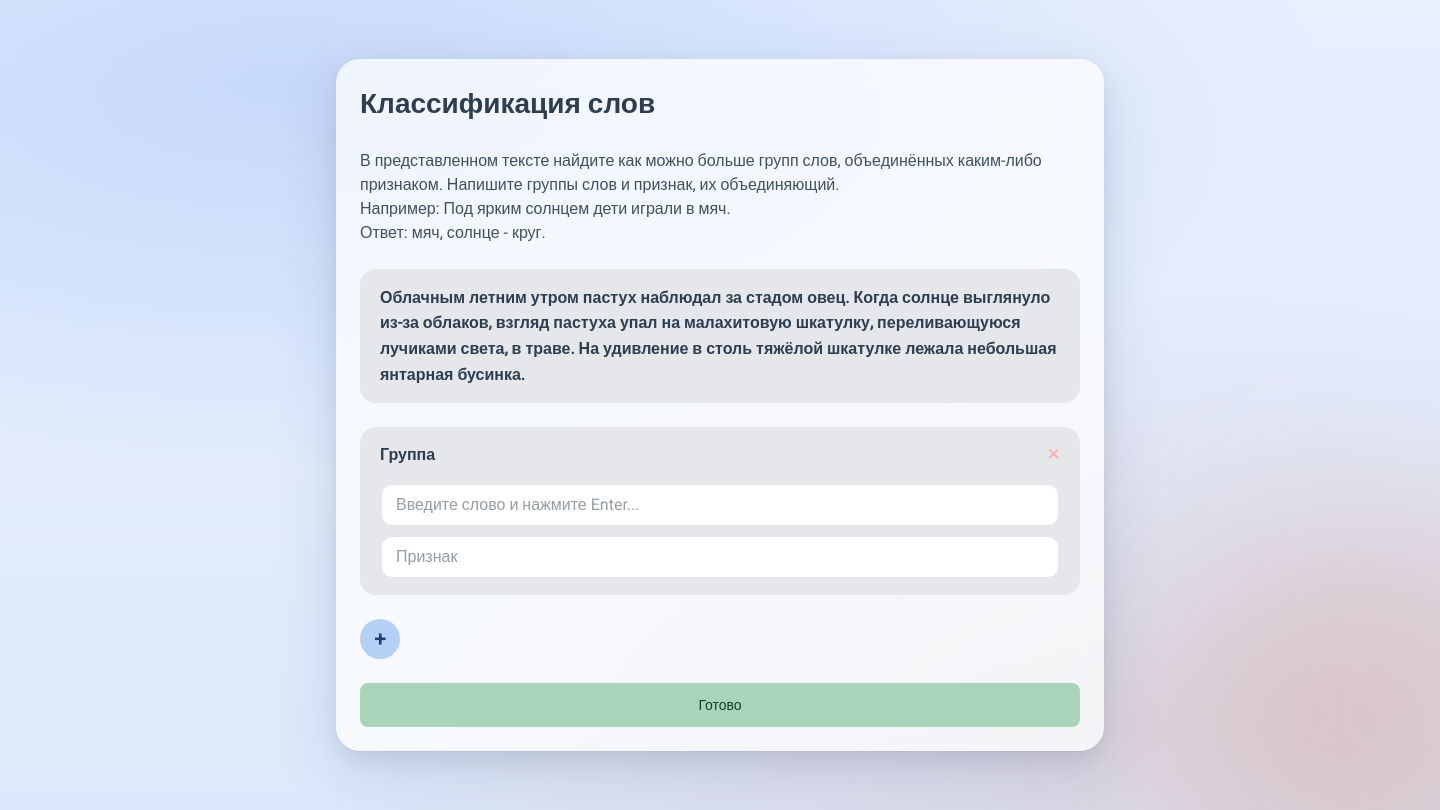
Test: /ai/classification — этап 1 (words) › «Готово» после активации: POST слов → 201 → этап 2 без стимула в DOM
Type "пастух" into the field with test id "word-input".
click(720, 505); type("пастух")  # box [380,483,1060,527]
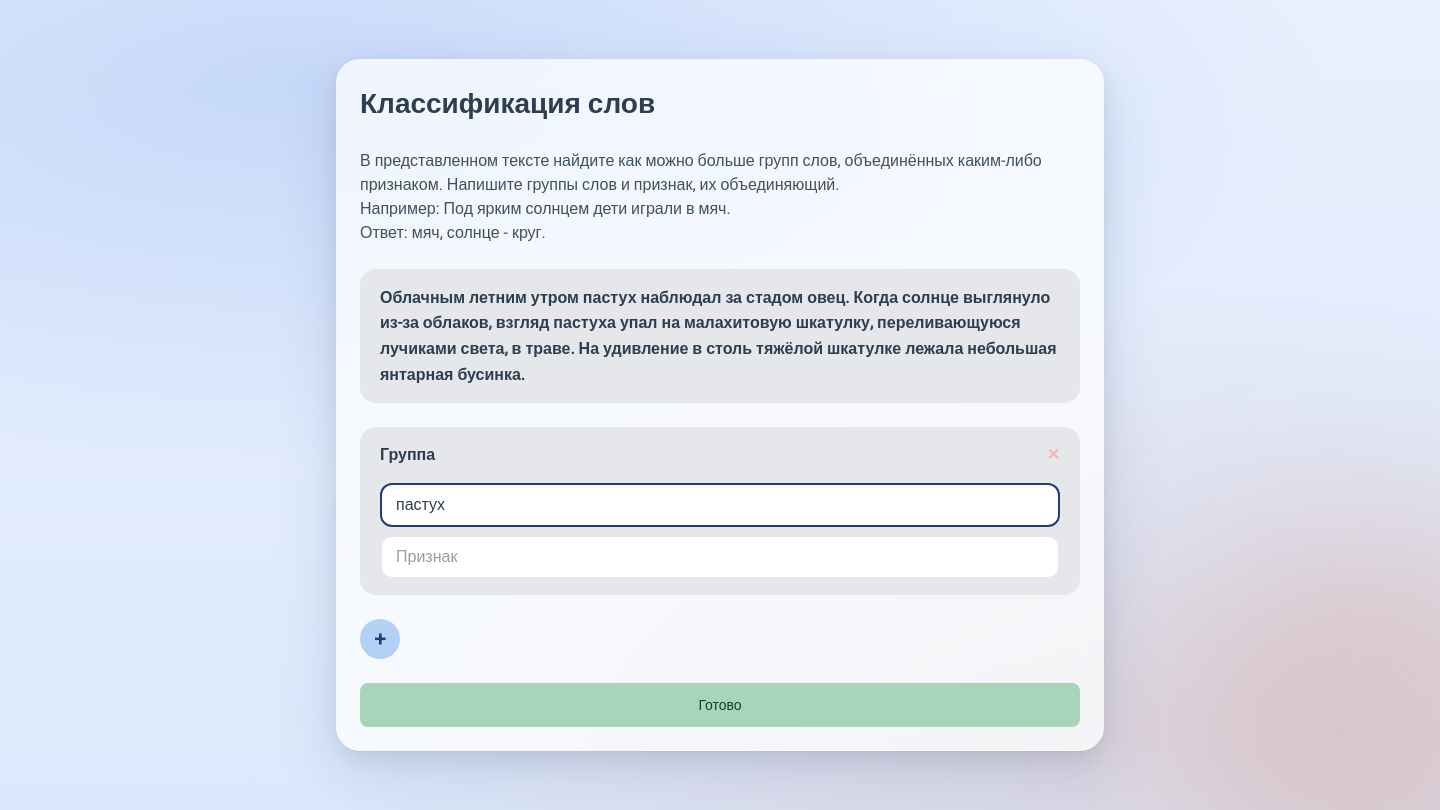
Press Enter
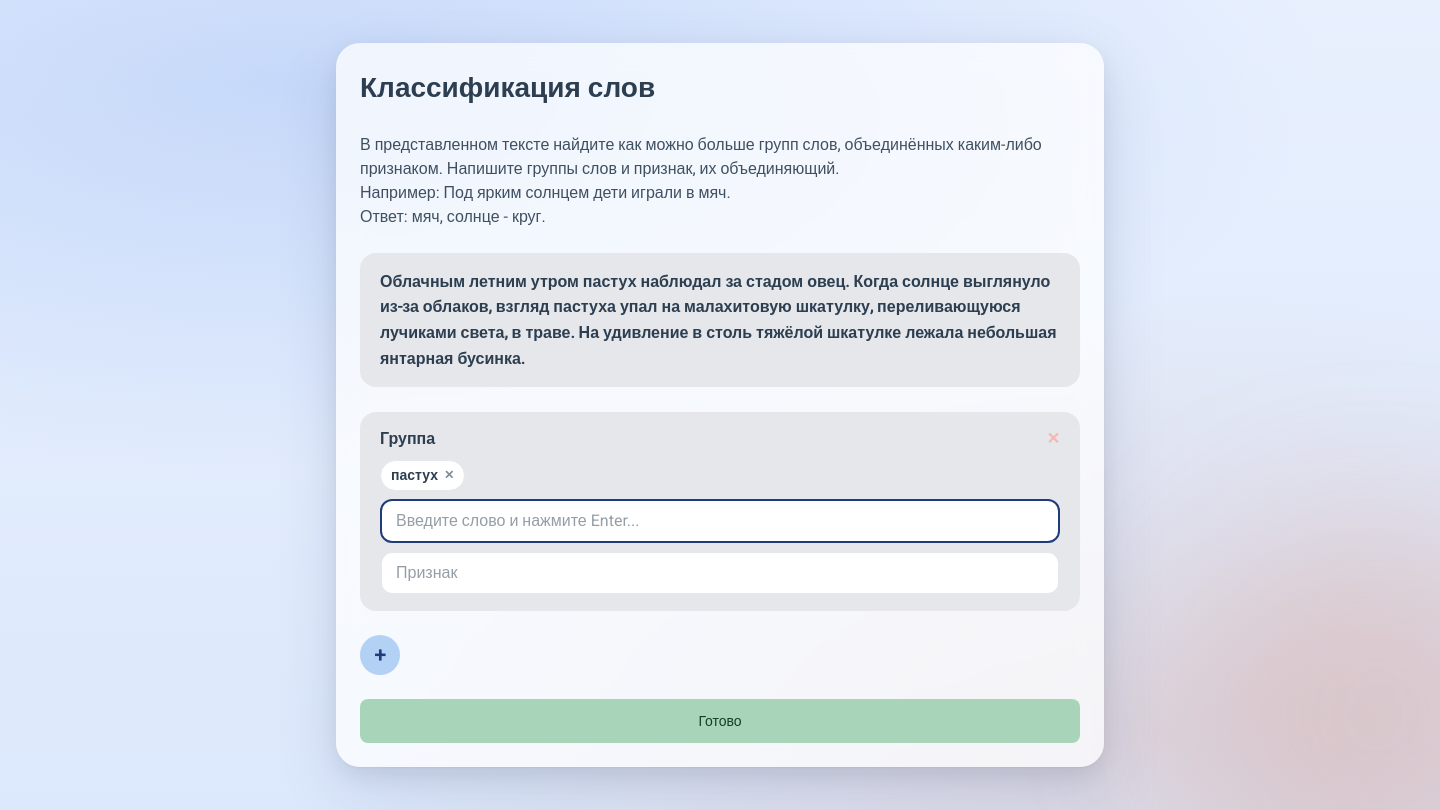
Type "Профессия" into the field with test id "feature-input".
click(720, 573); type("Профессия")  # box [380,551,1060,595]
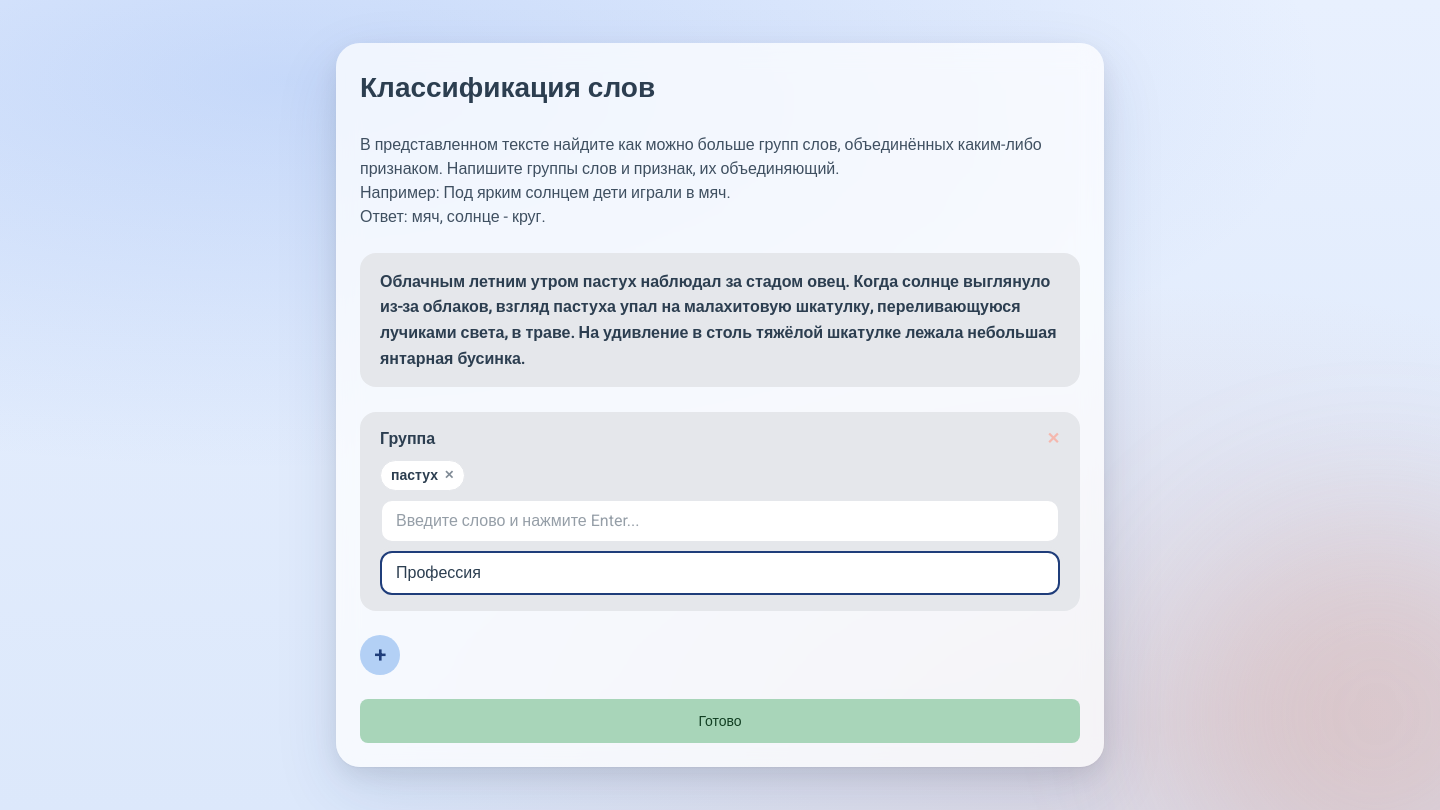
Click the button "Готово".
click(720, 721)  # box [360,699,1080,743]
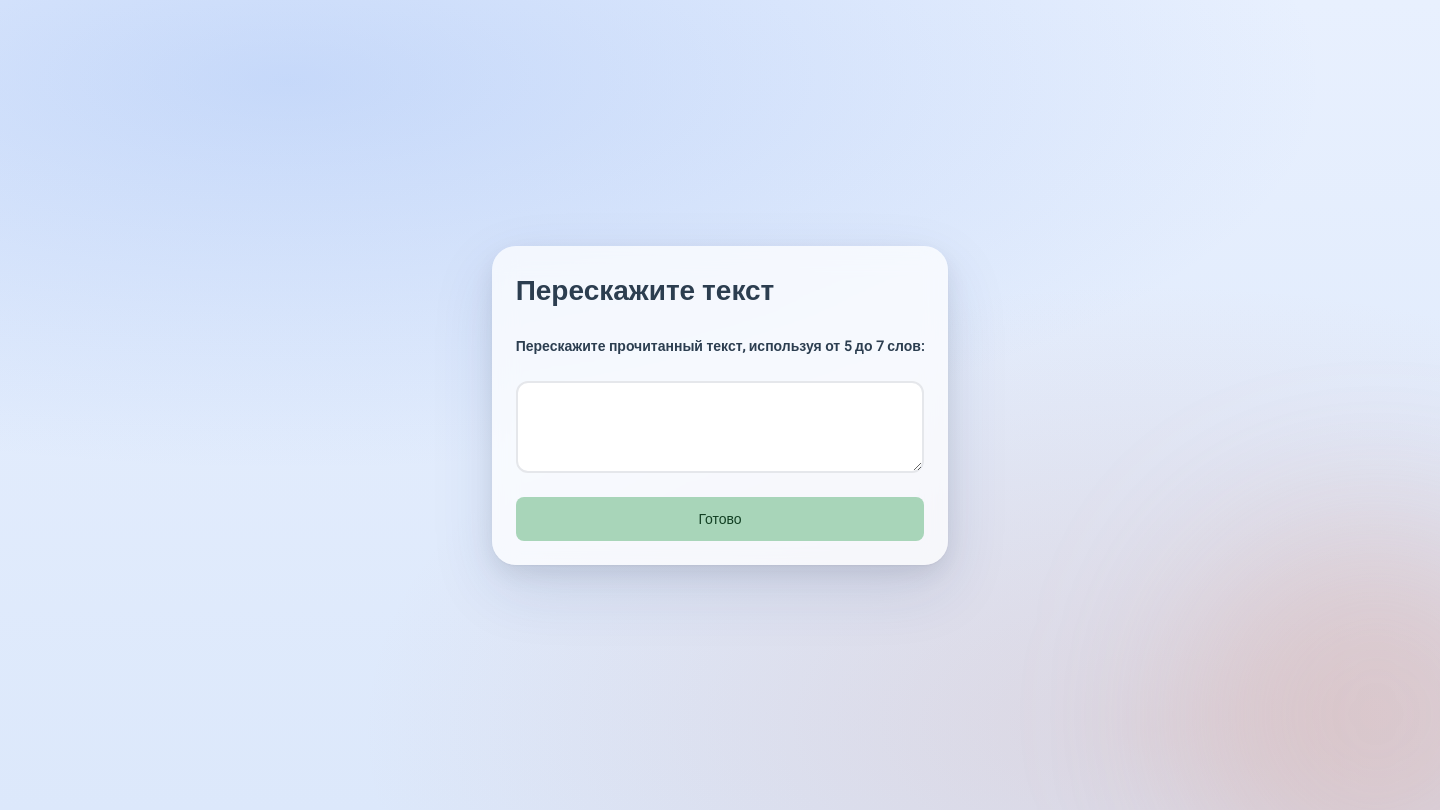
Now the text box with test id "retelling" is shown, box [516,380,924,472]
Now the text with test id "stimulus" is gone
Now the text "Облачным летним утром пастух наблюдал за стадом овец. Когда солнце выглянуло из-за облаков, взгляд пастуха упал на малахитовую шкатулку, переливающуюся лучиками" is gone
